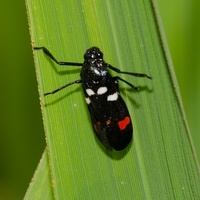insect: (33, 47, 151, 149)
